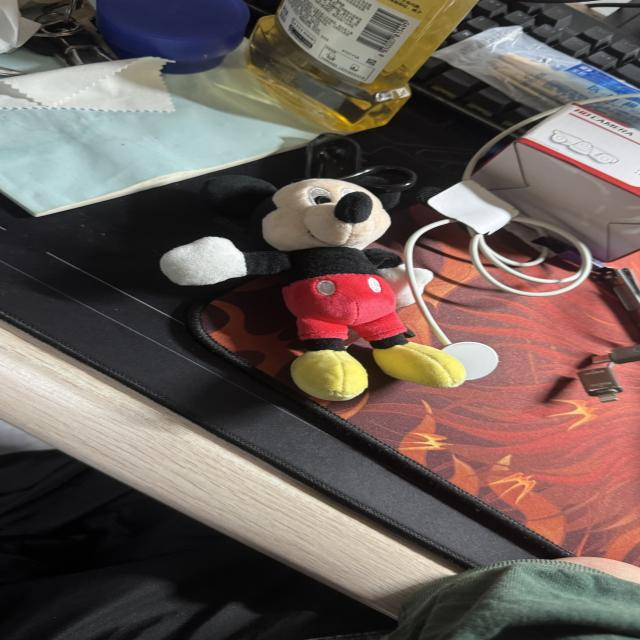mickey: (161, 177, 465, 400)
